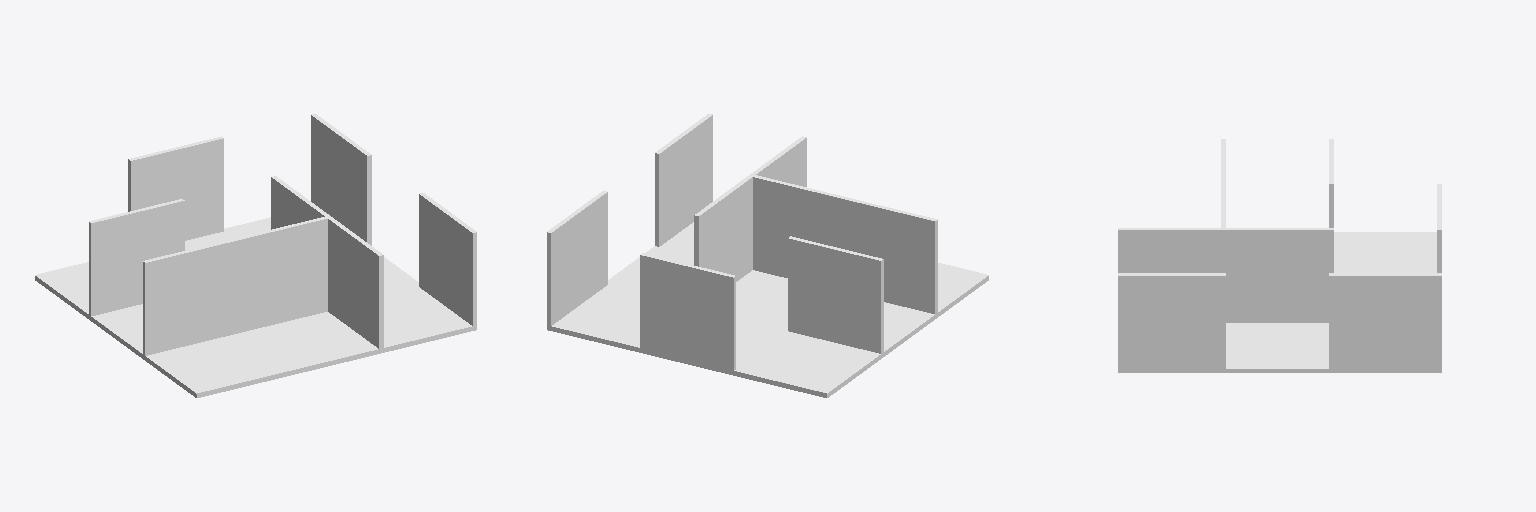
File: level_maze-10.obj
3 renders of one model, left to right at view 1: azimuth 30°, elevation 25°; view 2: azimuth 150°, elevation 25°; view 3: azimuth 270°, elevation 25°, orthographic.
Parts seen in each view (by area): view 1: level_maze-10; view 2: level_maze-10; view 3: level_maze-10.
Part boxes in pixels (left/top/right/bottom): level_maze-10: left=35, top=114, right=476, bottom=397; level_maze-10: left=547, top=114, right=988, bottom=397; level_maze-10: left=1118, top=139, right=1441, bottom=372.
Size of the model in its own units: 60 by 20 by 60.